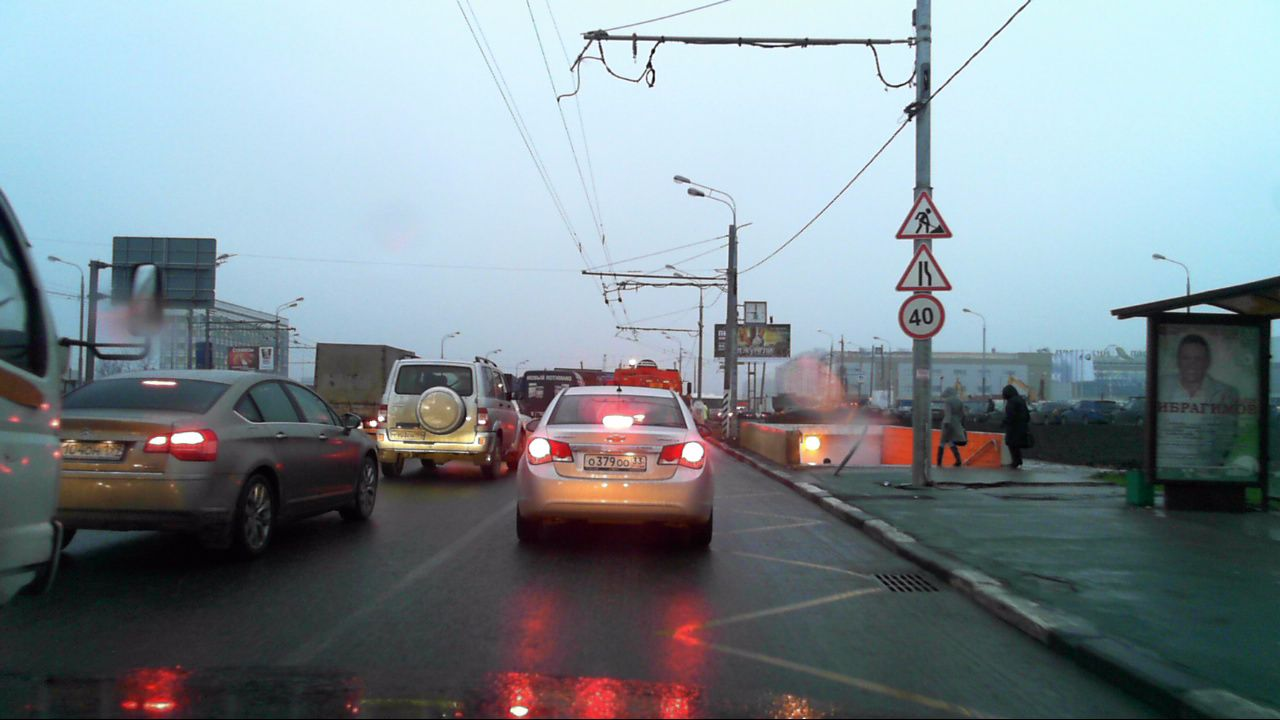speed_warning_40: (900, 293, 945, 338)
